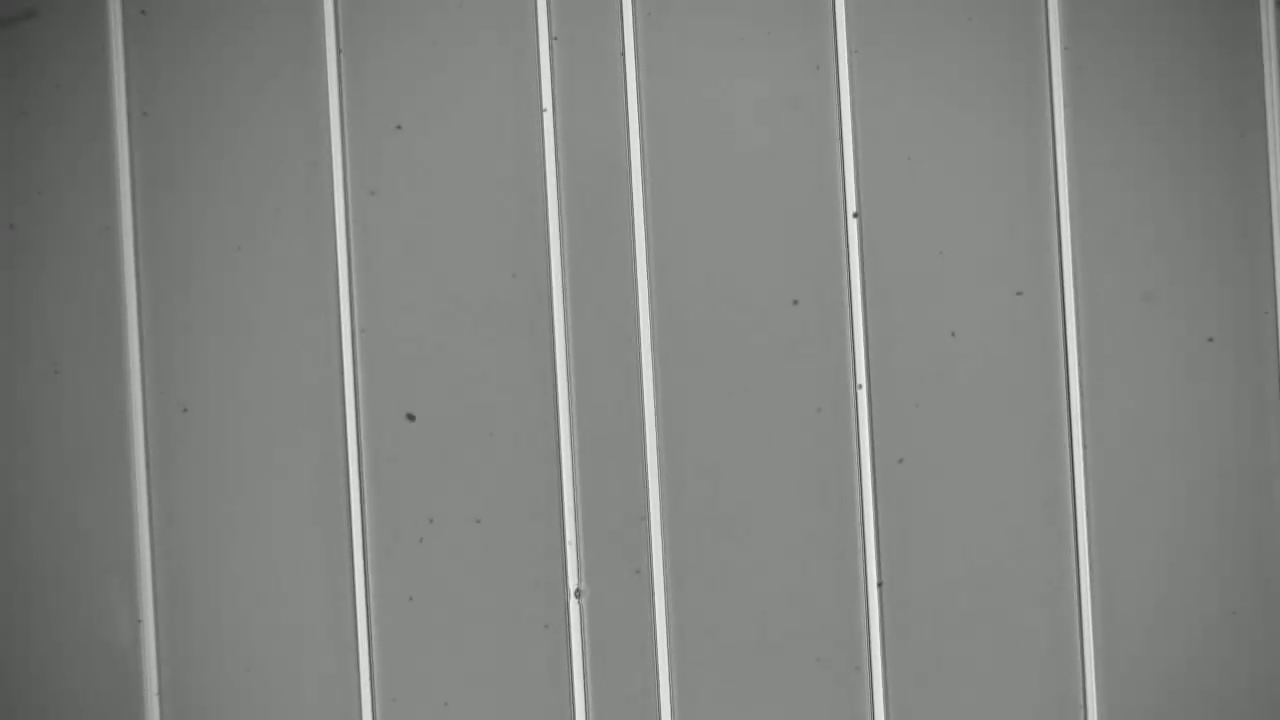stains_enbedded: (556, 581, 593, 606)
